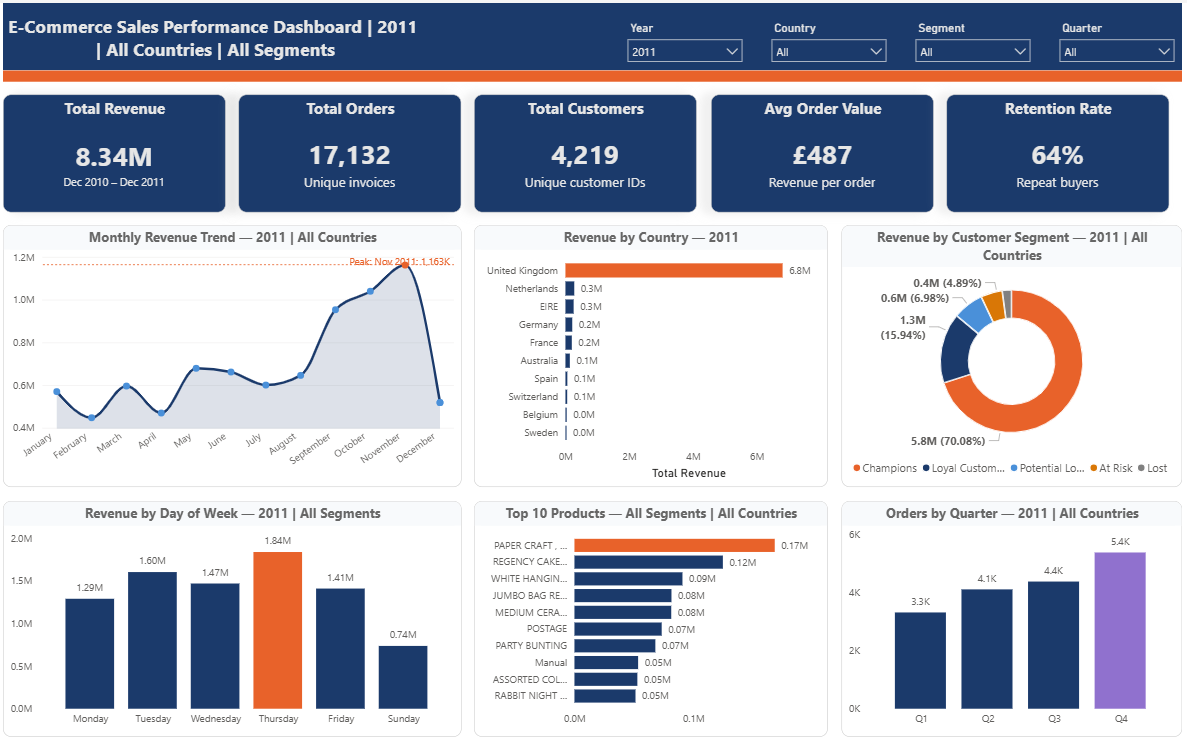

The dashboard page shown, as its layout file describes it:
{"tool":"powerbi","page":{"name":"Executive Overview","canvas":[1440,900],"ordinal":0},"visuals":[{"type":"cardVisual","title":"Total Revenue","fields":{"Data":["_Measures.Total Revenue"]},"box":[0,112,272,144],"z":0},{"type":"lineChart","fields":{"Category":["data_clean.YearMonth.Variation.Date Hierarchy.Month"],"Y":["_Measures.Total Revenue"]},"box":[0,272,560,320],"z":1000},{"type":"barChart","fields":{"Category":["data_clean.Country"],"Y":["_Measures.Total Revenue"]},"box":[576,272,432,320],"z":2000},{"type":"donutChart","fields":{"Y":["_Measures.Total Revenue"],"Category":["data_clean.Segment"]},"box":[1024,272,416,320],"z":3000},{"type":"barChart","fields":{"Category":["data_clean.Description"],"Y":["_Measures.Total Revenue"]},"box":[576,608,432,288],"z":4000},{"type":"columnChart","fields":{"Category":["data_clean.DayOfWeek"],"Y":["_Measures.Total Revenue"]},"box":[0,608,560,288],"z":5000},{"type":"clusteredColumnChart","fields":{"Category":["data_clean.Quarter"],"Y":["_Measures.Total Orders"]},"box":[1024,608,416,288],"z":6000},{"type":"cardVisual","title":"Total Customers","fields":{"Data":["_Measures.Total Customers"]},"box":[576,112,272,144],"z":7000},{"type":"cardVisual","title":"Avg Order Value","fields":{"Data":["_Measures.Average Order Value"]},"box":[864,112,272,144],"z":8000},{"type":"cardVisual","title":"Retention Rate","fields":{"Data":["_Measures.Retention Rate"]},"box":[1152,112,272,144],"z":9000},{"type":"cardVisual","title":"Total Orders","fields":{"Data":["_Measures.Total Orders"]},"box":[288,112,272,144],"z":10000},{"type":"group","id":"g1","title":"Group 1","box":[0,0,1440,96],"z":11000},{"type":"slicer","fields":{"Values":["data_clean.Quarter"]},"box":[1280,16,160,80],"z":12000},{"type":"slicer","fields":{"Values":["data_clean.Segment"]},"box":[1104,16,160,80],"z":13000},{"type":"slicer","fields":{"Values":["data_clean.Country"]},"box":[928,16,160,80],"z":14000},{"type":"shape","box":[0,0,1440,82.3],"z":15000,"group":"g1"},{"type":"slicer","fields":{"Values":["data_clean.Year"]},"box":[752,16,160,80],"z":15000},{"type":"card","fields":{"Values":["_Measures.Dashboard Title"]},"box":[0,0,512,80],"z":16000},{"type":"shape","box":[0,82.3,1440,13.7],"z":16000,"group":"g1"}]}

Visuals, with their boxes in screenshot pixels (x1, y1, x2, y2), scaled from the page's 1440x900 canvas onto the 1187x738 screenshot:
"Total Revenue" cardVisual: x1=0 y1=92 x2=224 y2=210
lineChart - data_clean.YearMonth.Variation.Date Hierarchy.Month x _Measures.Total Revenue: x1=0 y1=223 x2=462 y2=485
barChart - data_clean.Country x _Measures.Total Revenue: x1=475 y1=223 x2=831 y2=485
donutChart - _Measures.Total Revenue x data_clean.Segment: x1=844 y1=223 x2=1186 y2=485
barChart - data_clean.Description x _Measures.Total Revenue: x1=475 y1=499 x2=831 y2=735
columnChart - data_clean.DayOfWeek x _Measures.Total Revenue: x1=0 y1=499 x2=462 y2=735
clusteredColumnChart - data_clean.Quarter x _Measures.Total Orders: x1=844 y1=499 x2=1186 y2=735
"Total Customers" cardVisual: x1=475 y1=92 x2=699 y2=210
"Avg Order Value" cardVisual: x1=712 y1=92 x2=936 y2=210
"Retention Rate" cardVisual: x1=950 y1=92 x2=1174 y2=210
"Total Orders" cardVisual: x1=237 y1=92 x2=462 y2=210
"Group 1" group: x1=0 y1=0 x2=1186 y2=79
slicer - data_clean.Quarter: x1=1055 y1=13 x2=1186 y2=79
slicer - data_clean.Segment: x1=910 y1=13 x2=1042 y2=79
slicer - data_clean.Country: x1=765 y1=13 x2=897 y2=79
shape: x1=0 y1=0 x2=1186 y2=67
slicer - data_clean.Year: x1=620 y1=13 x2=752 y2=79
card - _Measures.Dashboard Title: x1=0 y1=0 x2=422 y2=66
shape: x1=0 y1=67 x2=1186 y2=79
